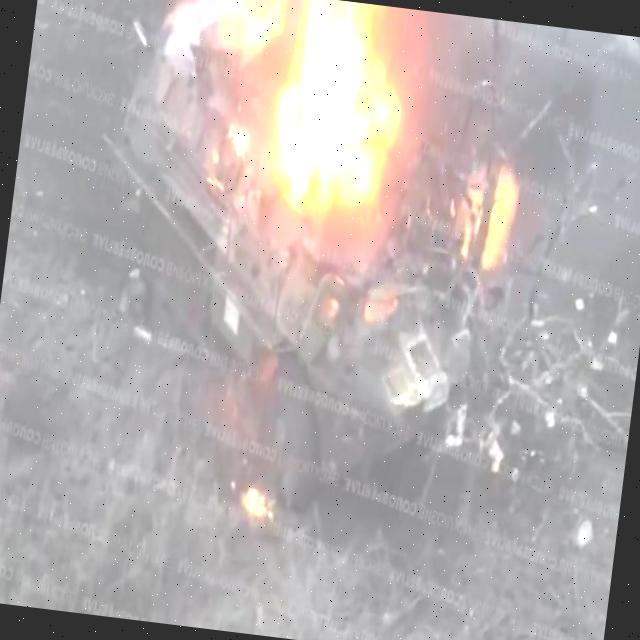Destroyed: (51, 1, 513, 521)
